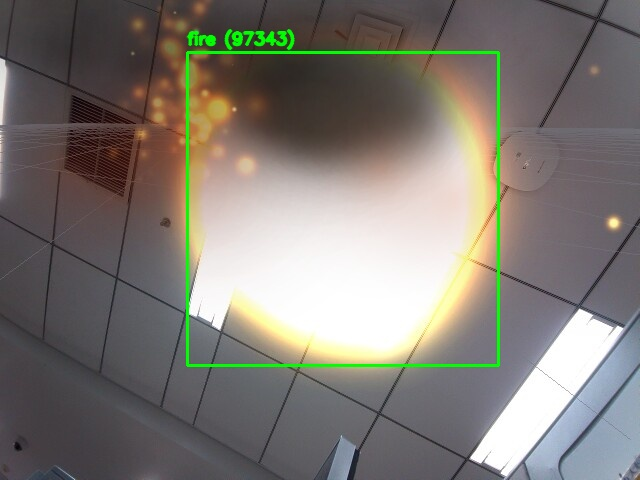fire: (187, 52, 498, 365)
